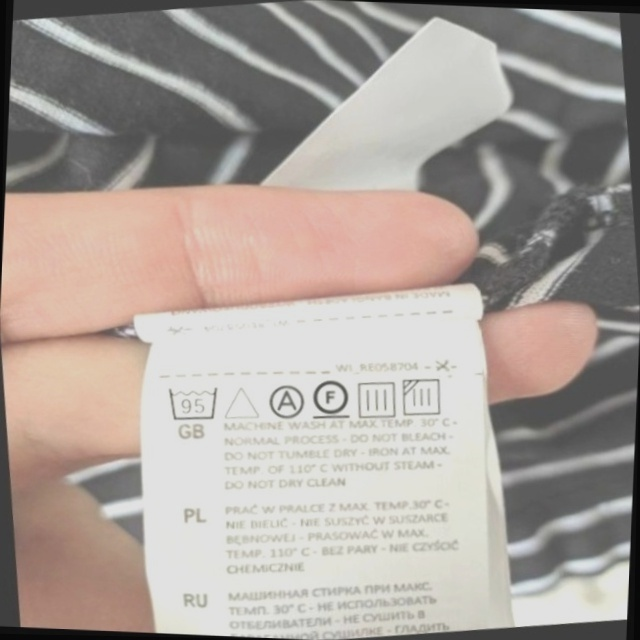95C: (163, 379, 225, 427)
bleach: (221, 379, 262, 425)
drip_dry: (352, 374, 402, 423)
drip_dry_in_shade: (399, 372, 450, 423)
dry_clean: (263, 380, 308, 423)
dry_clean_petrol_only: (308, 372, 354, 424)
